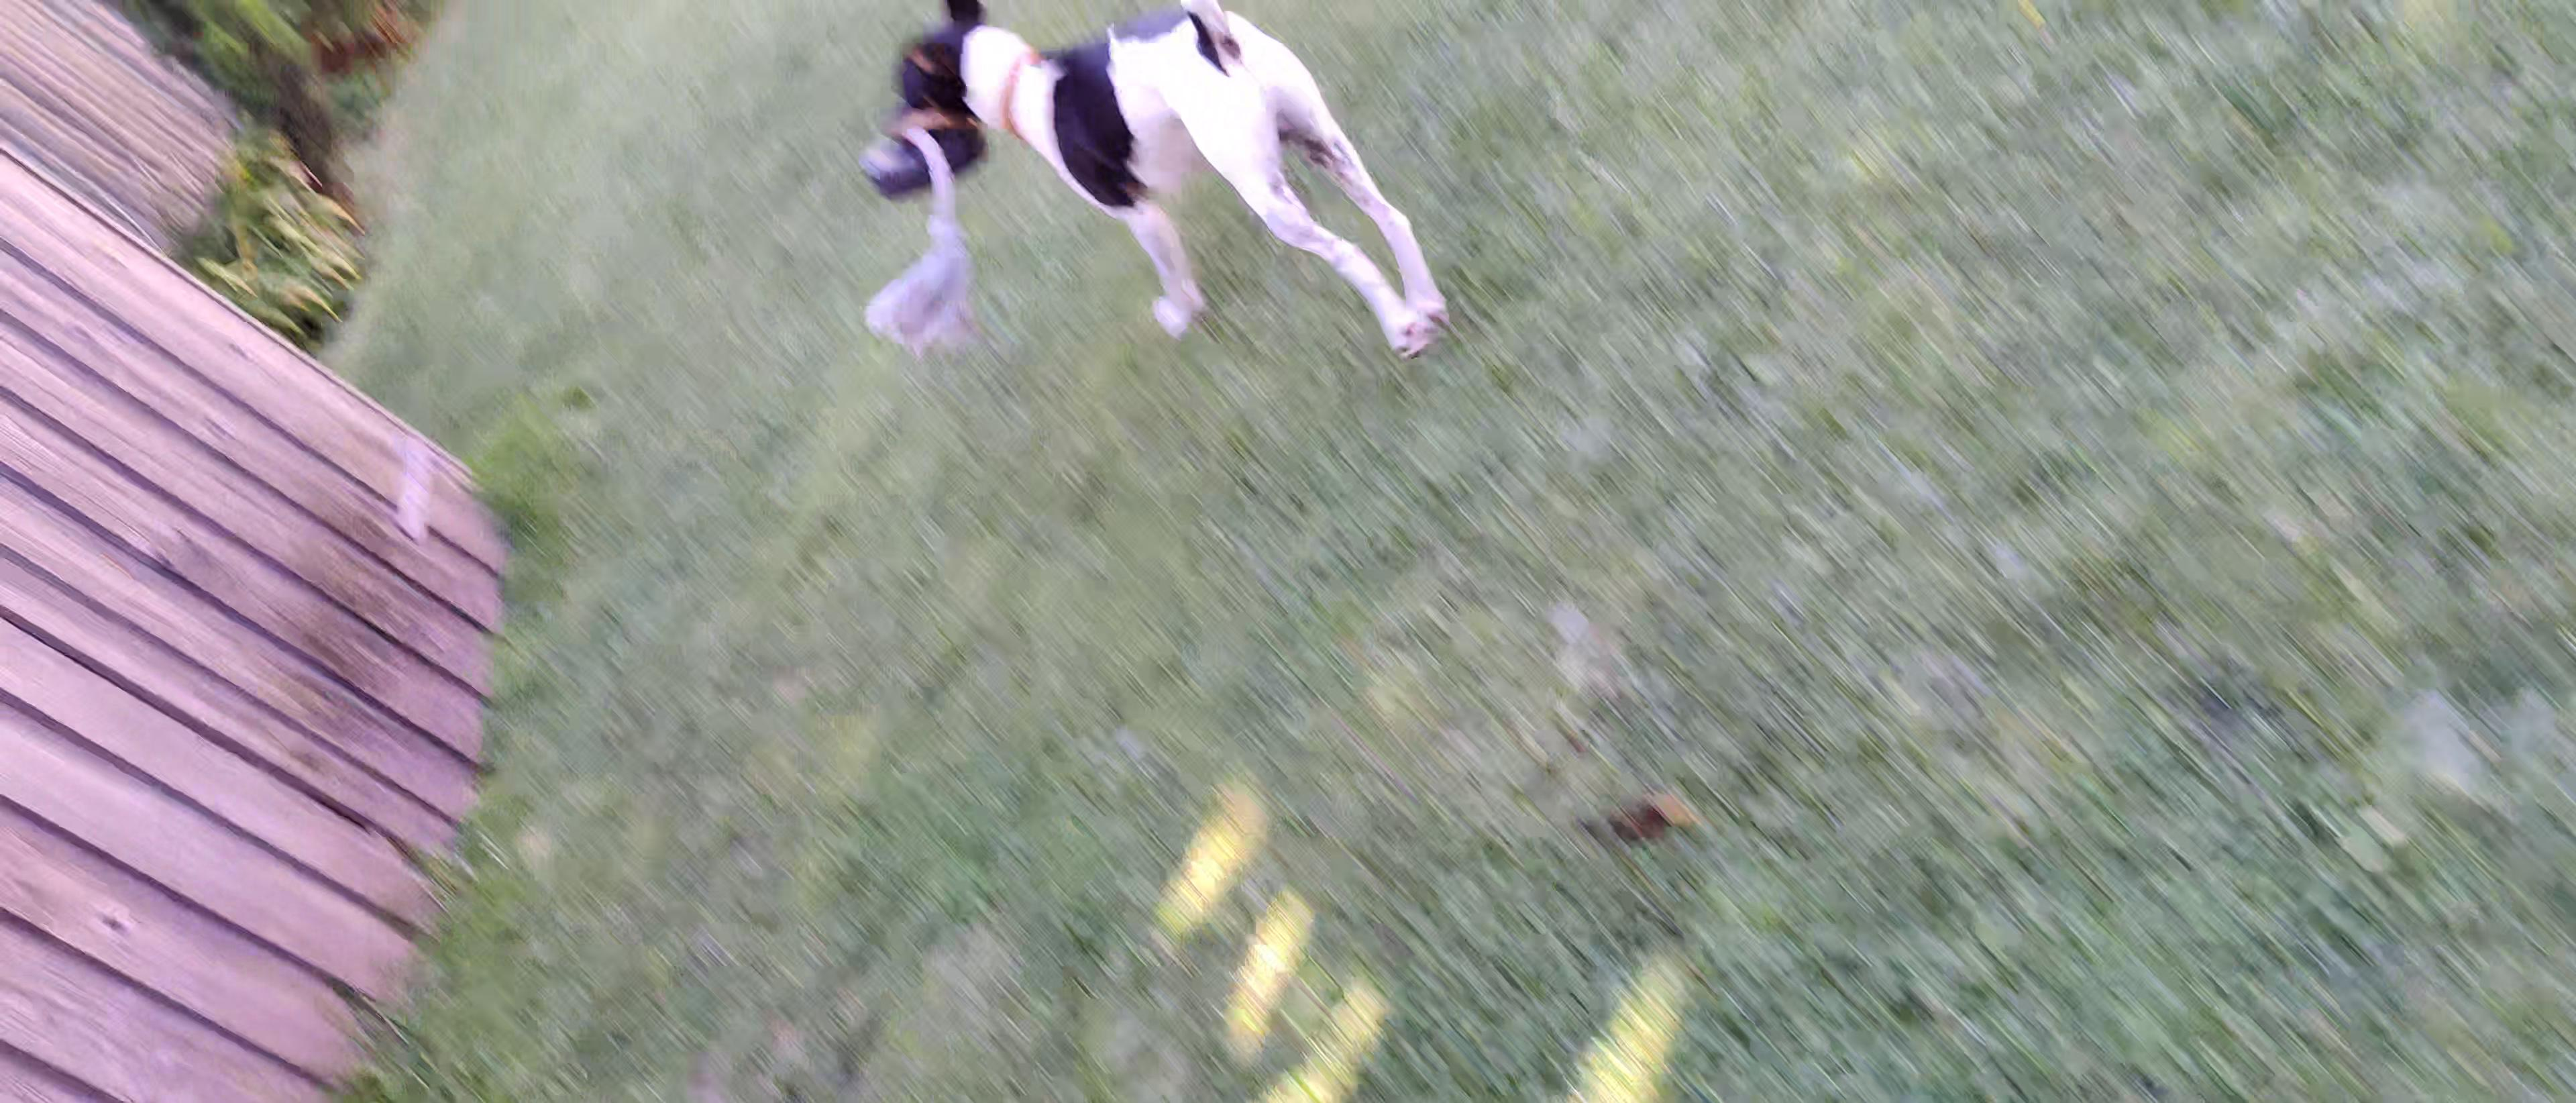Dog: (879, 0, 1456, 367)
